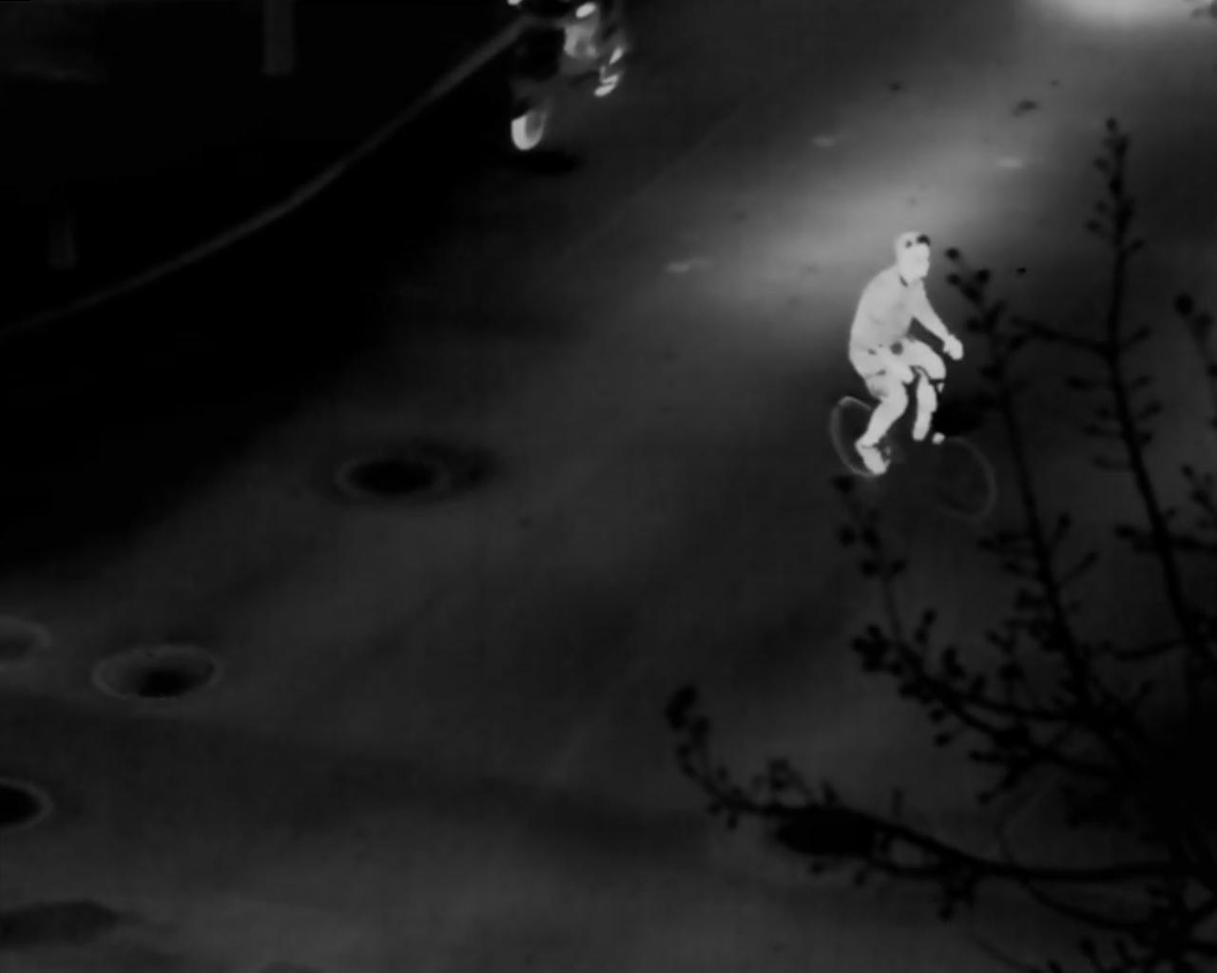person: (848, 231, 965, 477)
